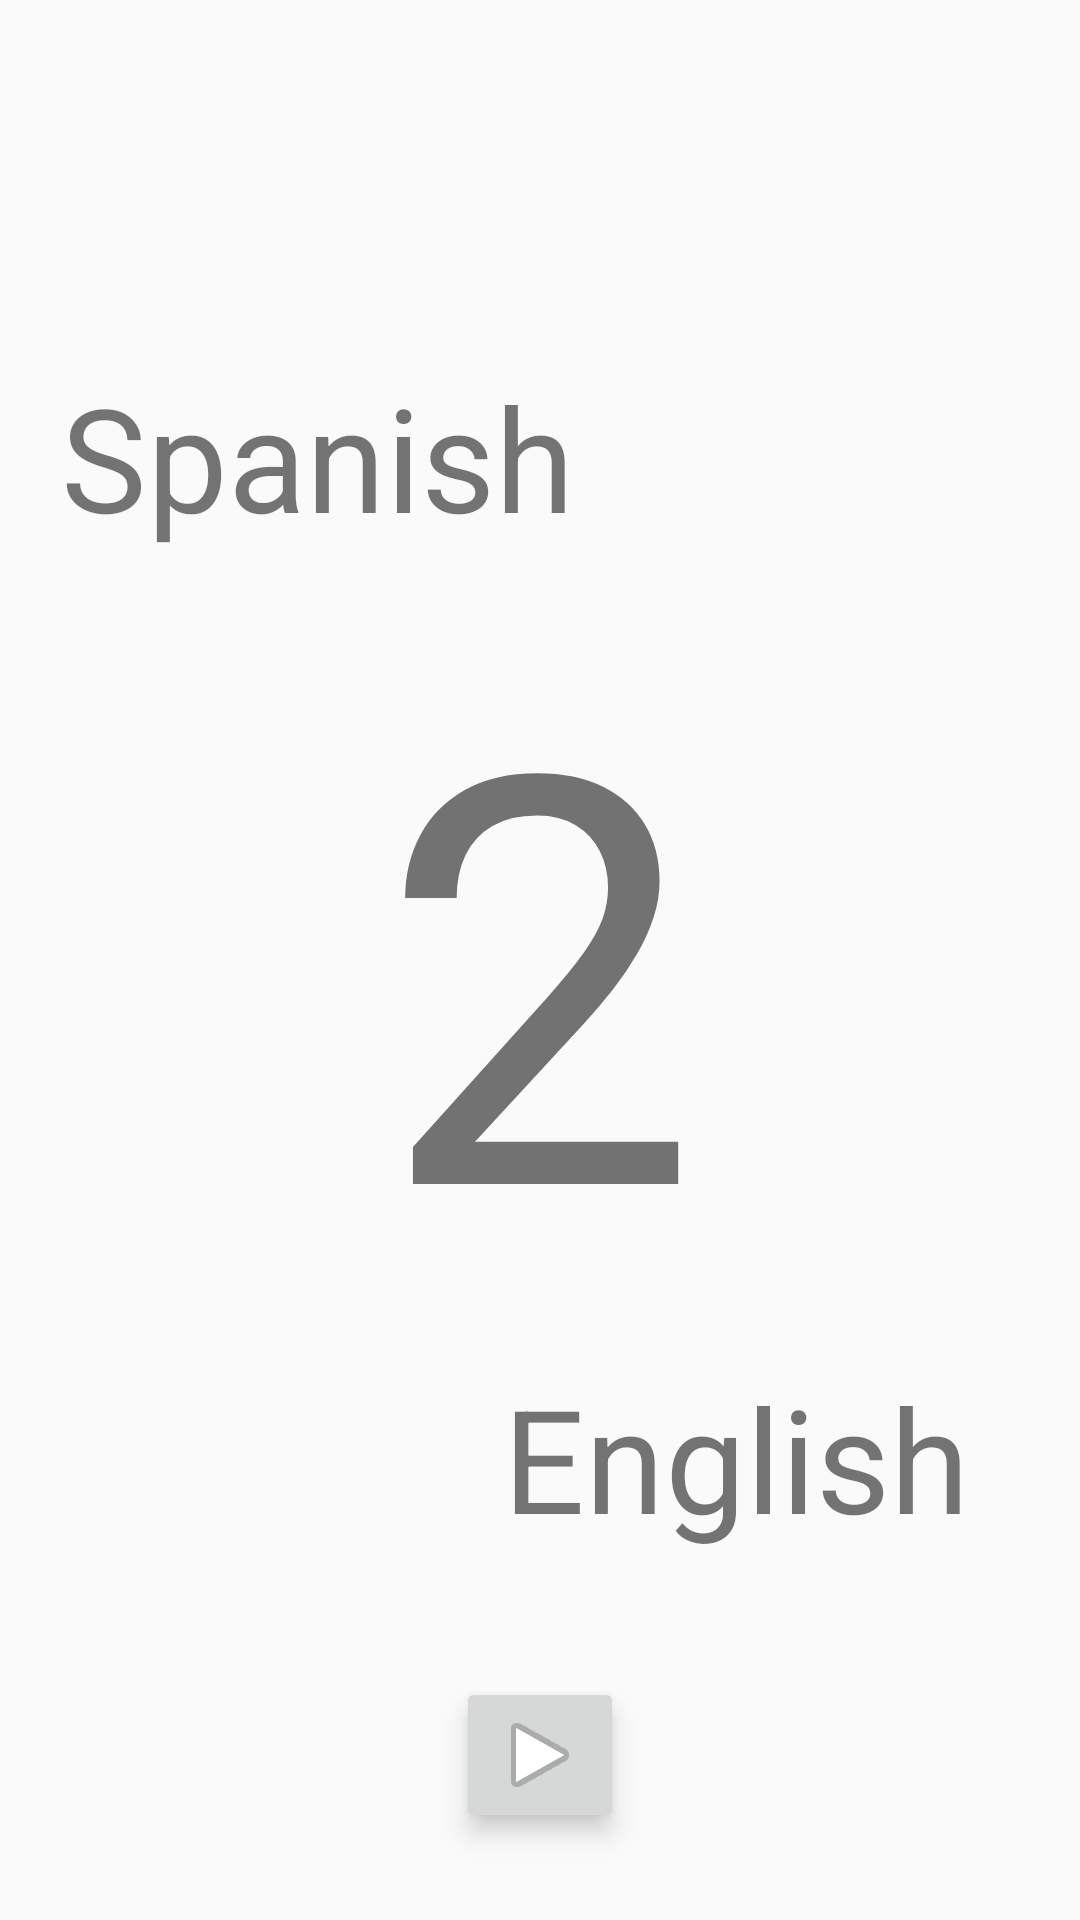

Named icons in this screenshot (1080w x 1920h) and their bounding boxes, [x1=x1, y1=y1, x2=x2, y2=y2]:
play: [x1=468, y1=1695, x2=612, y2=1825]
